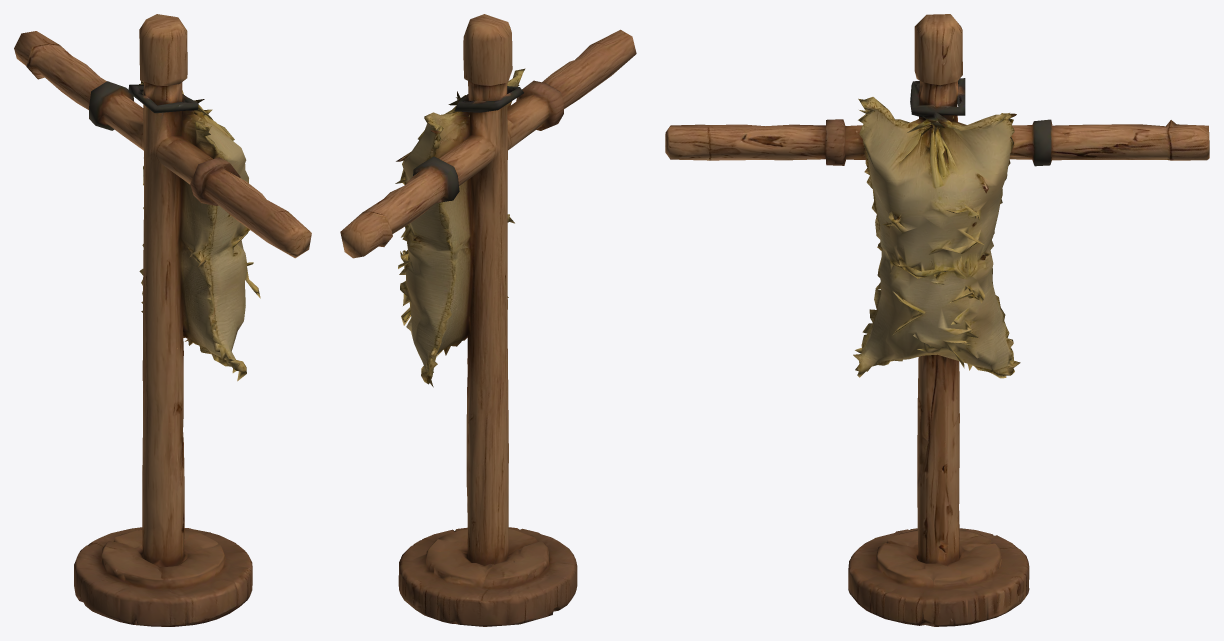
Rendered from dummy.glb.
3 views of the same model, side by side, from view 1: azimuth 30°, elevation 25°; view 2: azimuth 150°, elevation 25°; view 3: azimuth 270°, elevation 25° (orthographic).
Visible parts, largest first — view 1: tripo_node_dbb53e82-0dac-4f04-85cb-f23029056a78; view 2: tripo_node_dbb53e82-0dac-4f04-85cb-f23029056a78; view 3: tripo_node_dbb53e82-0dac-4f04-85cb-f23029056a78.
Part boxes in pixels (left/top/right/bottom): tripo_node_dbb53e82-0dac-4f04-85cb-f23029056a78: left=14, top=14, right=311, bottom=626; tripo_node_dbb53e82-0dac-4f04-85cb-f23029056a78: left=340, top=14, right=636, bottom=626; tripo_node_dbb53e82-0dac-4f04-85cb-f23029056a78: left=665, top=14, right=1209, bottom=626.
Bounding box in the file's own units: 0.2871 × 1 × 0.8634.
1 material, 1 textured.
